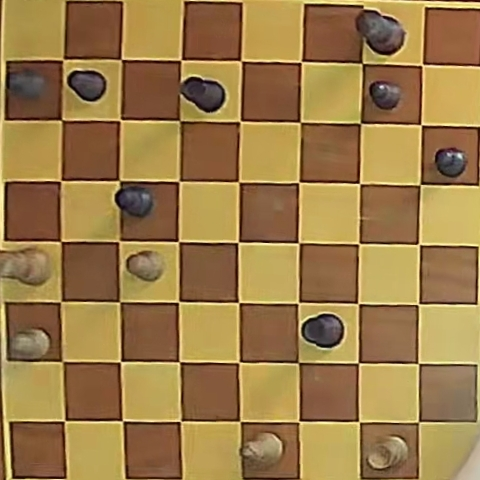black-king: (356, 10, 406, 55)
black-pawn: (68, 70, 107, 102), (116, 185, 154, 217), (8, 69, 46, 99), (434, 147, 467, 177), (369, 81, 402, 109)
black-rook: (180, 76, 225, 113), (302, 313, 344, 349)
white-bishop: (240, 433, 284, 471)
white-king: (1, 246, 51, 285)
white-pawn: (9, 328, 51, 360), (126, 250, 164, 281)
white-rook: (367, 435, 408, 470)
